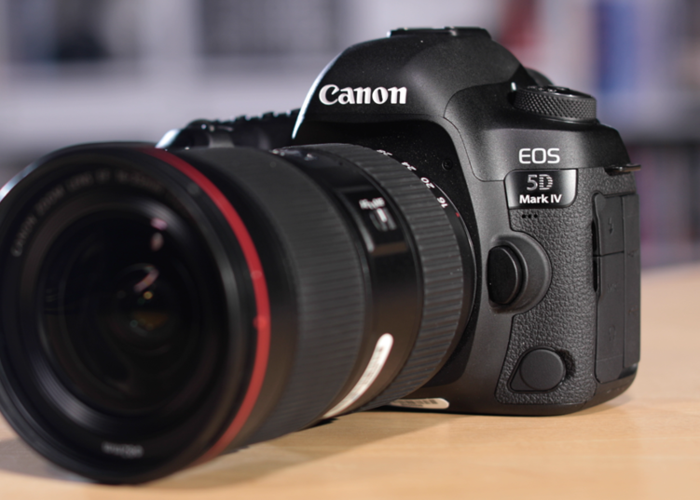kamera: (2, 24, 653, 499)
